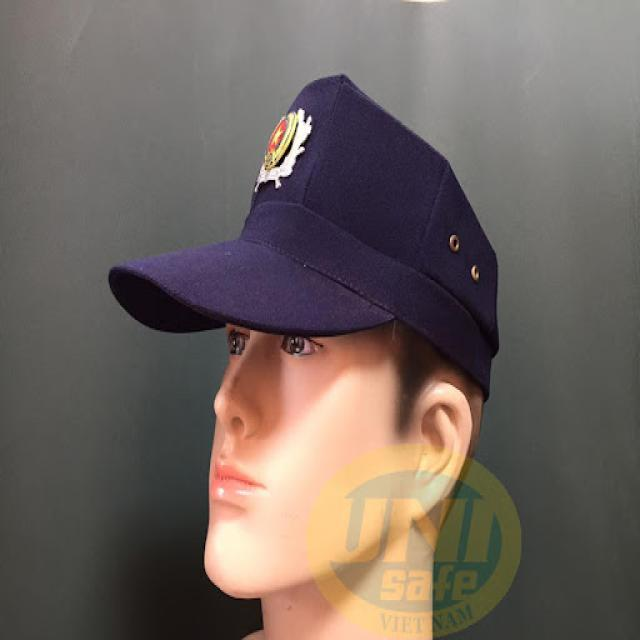Nonhelmet: (96, 58, 508, 617)
